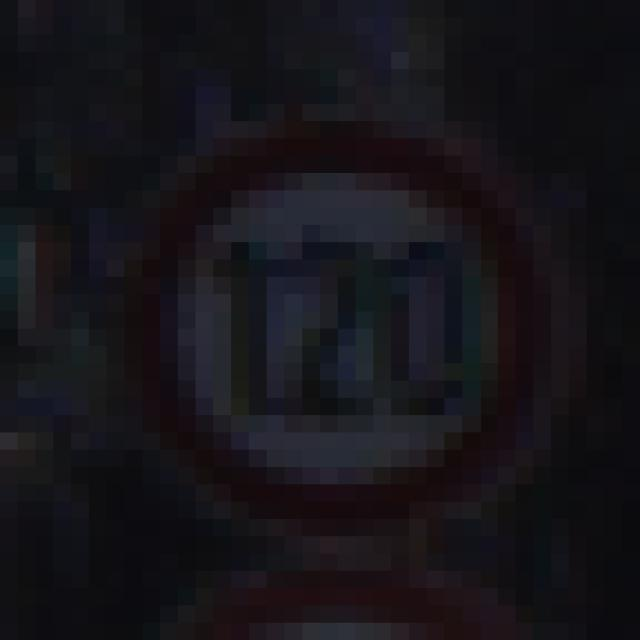Ograniczenie predkosci do 120: (146, 128, 546, 528)
